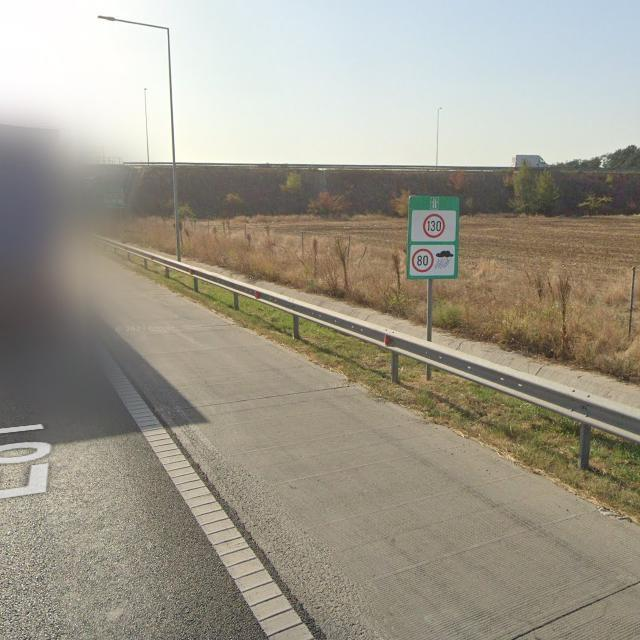forb_speed_over_80: (412, 249, 435, 273)
